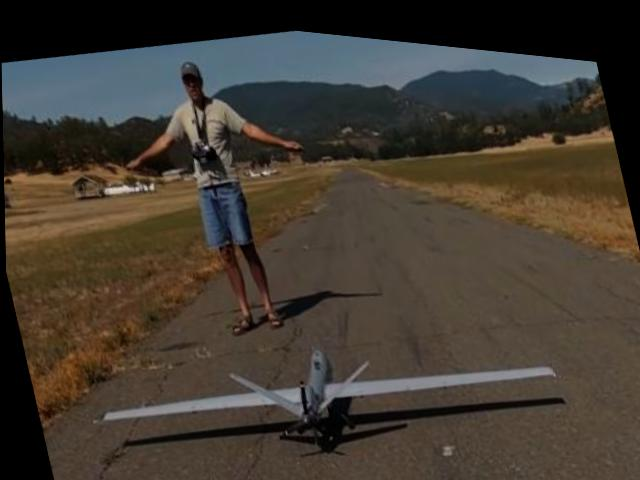uav: (68, 249, 582, 480)
